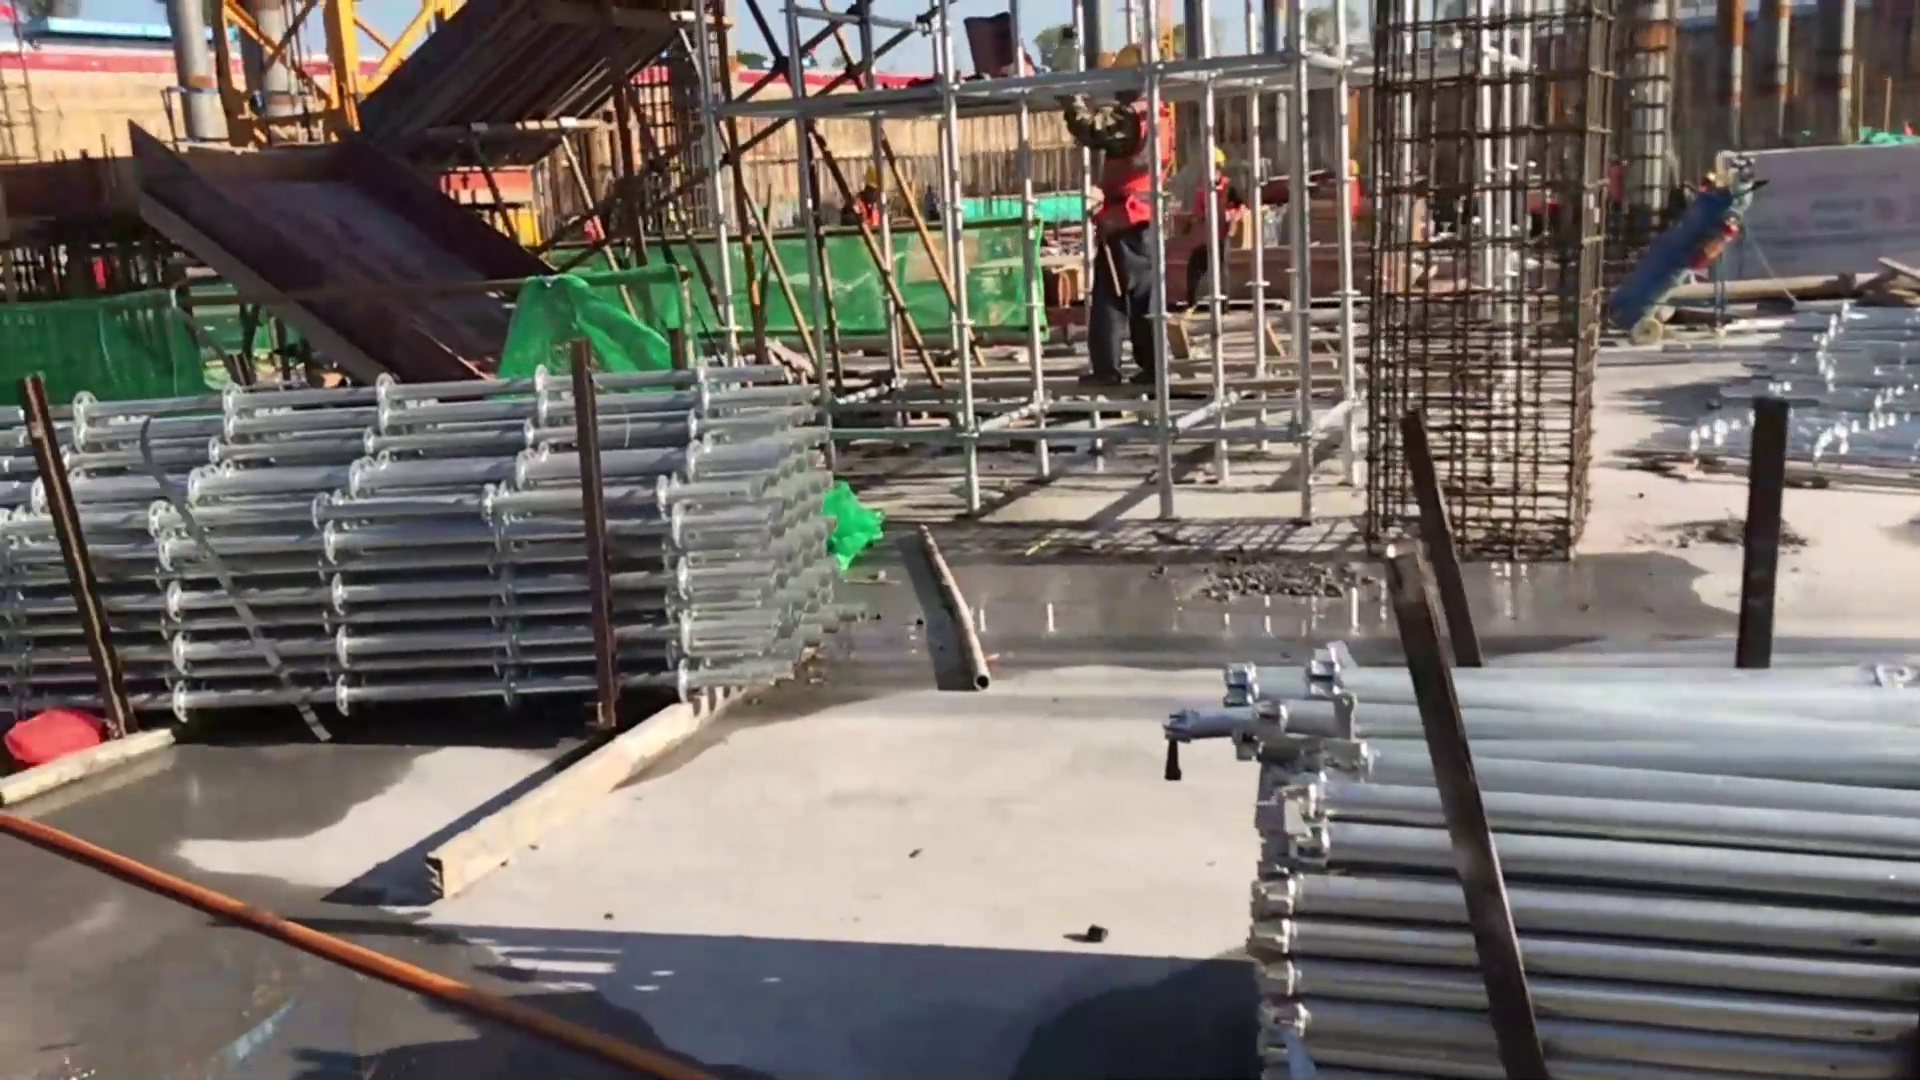person: (1063, 39, 1171, 391), (1181, 150, 1240, 307), (832, 165, 889, 231)
scaffold: (1161, 656, 1920, 1080), (17, 372, 851, 708), (1689, 310, 1920, 470)
vest: (1109, 104, 1170, 225)
